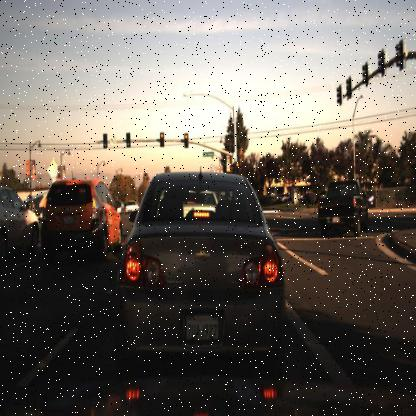car: (118, 172, 284, 369), (39, 173, 120, 268), (0, 176, 41, 269), (318, 181, 370, 236), (122, 197, 140, 217)
trafficLight-GreenLeft: (102, 129, 110, 150), (124, 130, 132, 151)
trafficLight-Red: (159, 129, 167, 148), (182, 132, 190, 151), (233, 160, 240, 178)
